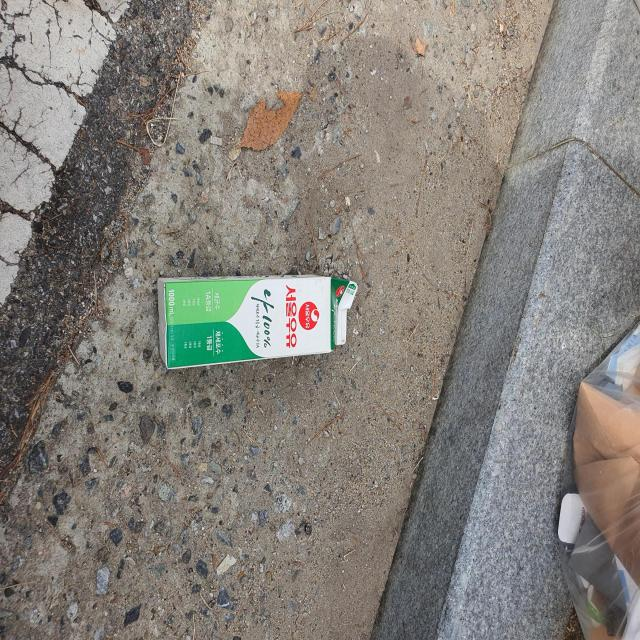paperpack: (158, 276, 358, 369)
